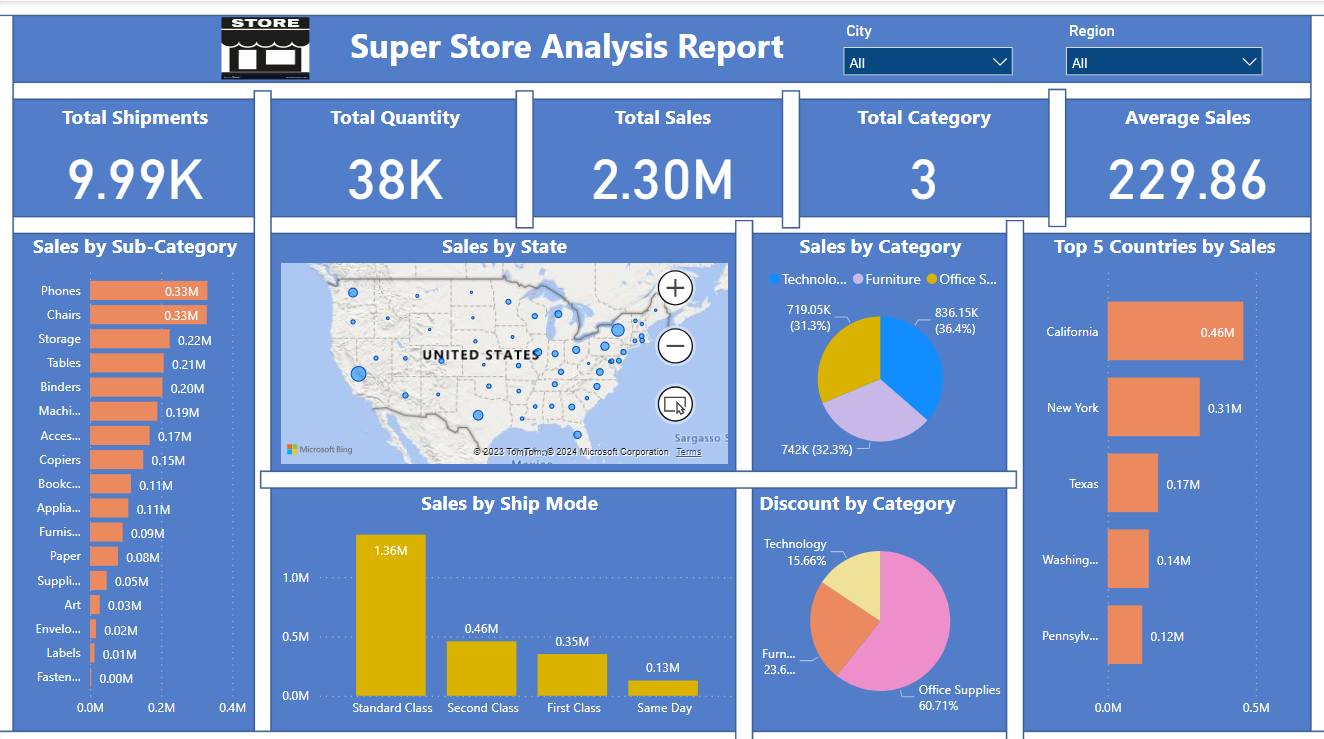

Layout of this report page (visuals, bound fields, positions):
{"tool":"powerbi","page":{"name":"Sales","canvas":[1280,720],"ordinal":0},"visuals":[{"type":"card","title":"Total Shipments","fields":{"Values":["CountNonNull(SampleSuperstore.Ship Mode)"]},"box":[17.8,98.7,226.2,108.3],"z":0},{"type":"card","title":"Total Quantity","fields":{"Values":["Sum(SampleSuperstore.Quantity)"]},"box":[267.4,98.7,229,108.3],"z":1000},{"type":"card","title":"Total Sales","fields":{"Values":["Sum(SampleSuperstore.Sales)"]},"box":[950.4,114.6,234,108.5],"z":2000},{"type":"card","title":"Total Category","fields":{"Values":["Count(SampleSuperstore.Category)"]},"box":[776,98.7,234.4,108.3],"z":3000},{"type":"card","title":"Average Sales","fields":{"Values":["Avg(SampleSuperstore.Sales)"]},"box":[1033.8,98.7,226.2,108.3],"z":4000},{"type":"pieChart","title":"Sales by Category","fields":{"Category":["SampleSuperstore.Category"],"Y":["Sum(SampleSuperstore.Sales)"]},"box":[728,223.5,244,229],"z":5000},{"type":"columnChart","title":"Sales by Ship Mode","fields":{"Category":["SampleSuperstore.Ship Mode"],"Y":["Sum(SampleSuperstore.Sales)"]},"box":[267.4,471.6,449.7,229],"z":6000},{"type":"barChart","title":"Sales by Sub-Category","fields":{"Y":["Sum(SampleSuperstore.Sales)"],"Category":["SampleSuperstore.Sub-Category"]},"box":[17.8,223.5,226.2,477.1],"z":7000},{"type":"map","title":" Sales by State","fields":{"Size":["Sum(SampleSuperstore.Sales)"],"Category":["SampleSuperstore.State"]},"box":[267.4,223.5,440.1,229],"z":8000},{"type":"pieChart","title":"Discount by Category","fields":{"Category":["SampleSuperstore.Category"],"Y":["Sum(SampleSuperstore.Discount)"]},"box":[728,471.6,244,229],"z":9000},{"type":"barChart","title":"Top 5 Countries by Sales","fields":{"Y":["Sum(SampleSuperstore.Sales)"],"Category":["SampleSuperstore.State"]},"box":[988.5,223.5,271.5,477.1],"z":10000},{"type":"textbox","box":[305.4,15.1,485.5,59.1],"z":11000},{"type":"image","box":[17.9,15.1,206.3,70.1],"z":12000},{"type":"image","box":[210.4,11,94.9,70.1],"z":13000},{"type":"slicer","fields":{"Values":["SampleSuperstore.City"]},"box":[804.8,15.1,183.7,59],"z":14000},{"type":"slicer","fields":{"Values":["SampleSuperstore.Region"]},"box":[1018.7,15.1,209.8,59],"z":15000}]}

Visuals, with their boxes in screenshot pixels (x1, y1, x2, y2), scaled from the page's 1280x720 canvas onto the 1324x739 screenshot:
"Total Shipments" card: locate(18, 101, 252, 212)
"Total Quantity" card: locate(277, 101, 513, 212)
"Total Sales" card: locate(983, 118, 1225, 229)
"Total Category" card: locate(803, 101, 1045, 212)
"Average Sales" card: locate(1069, 101, 1303, 212)
"Sales by Category" pieChart: locate(753, 229, 1005, 464)
"Sales by Ship Mode" columnChart: locate(277, 484, 742, 719)
"Sales by Sub-Category" barChart: locate(18, 229, 252, 719)
" Sales by State" map: locate(277, 229, 732, 464)
"Discount by Category" pieChart: locate(753, 484, 1005, 719)
"Top 5 Countries by Sales" barChart: locate(1022, 229, 1303, 719)
textbox: locate(316, 15, 818, 76)
image: locate(19, 15, 232, 87)
image: locate(218, 11, 316, 83)
slicer - SampleSuperstore.City: locate(832, 15, 1022, 76)
slicer - SampleSuperstore.Region: locate(1054, 15, 1271, 76)
